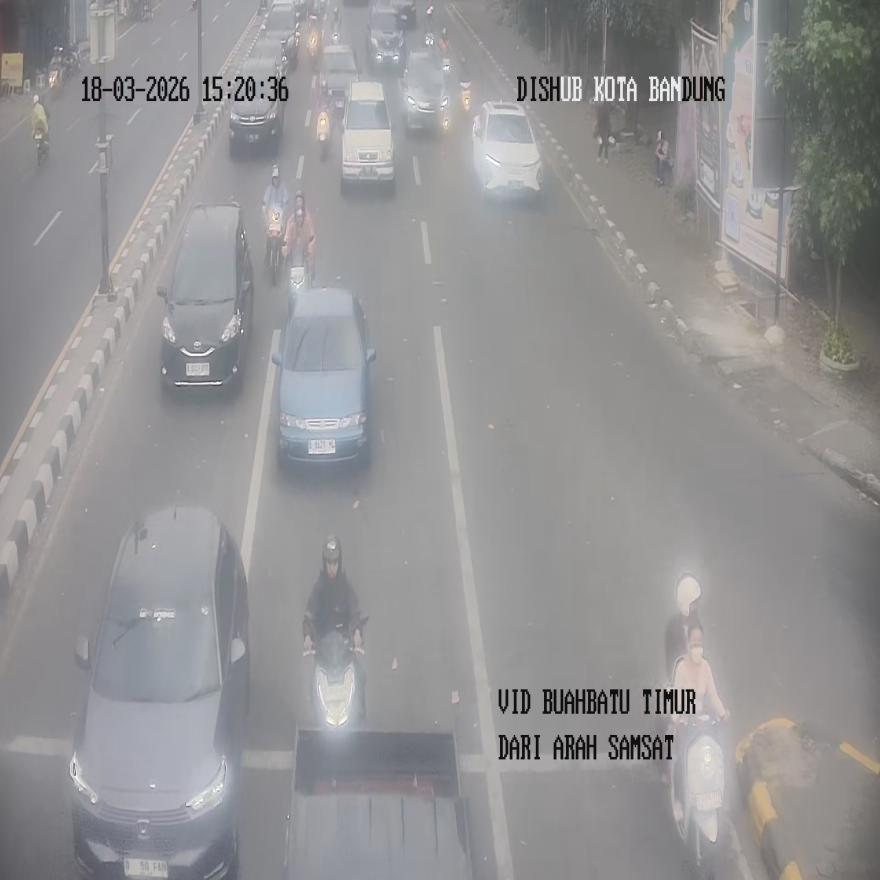Motor: (69, 505, 249, 878), (282, 726, 474, 879), (156, 198, 253, 392), (272, 285, 376, 462), (472, 101, 542, 201), (228, 47, 286, 153), (340, 81, 394, 193)
Truk: (671, 709, 726, 880), (304, 616, 366, 734), (284, 214, 314, 314), (266, 206, 283, 285), (32, 96, 49, 165), (654, 132, 672, 186), (306, 15, 321, 69), (317, 105, 331, 158), (459, 79, 472, 113), (331, 7, 341, 44)
